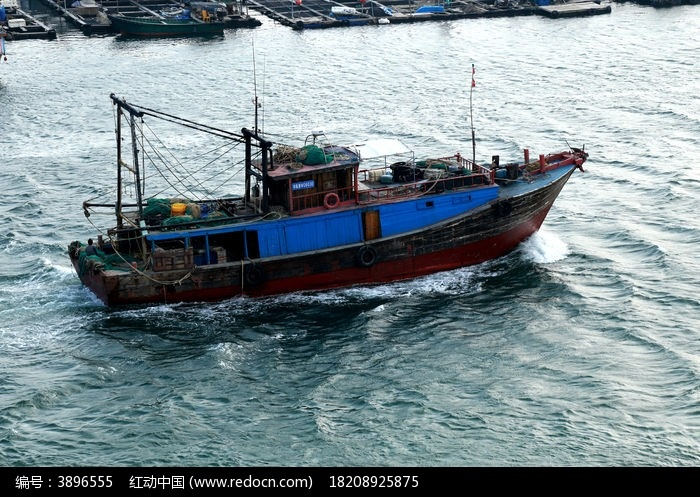otherboat: (57, 94, 597, 318)
